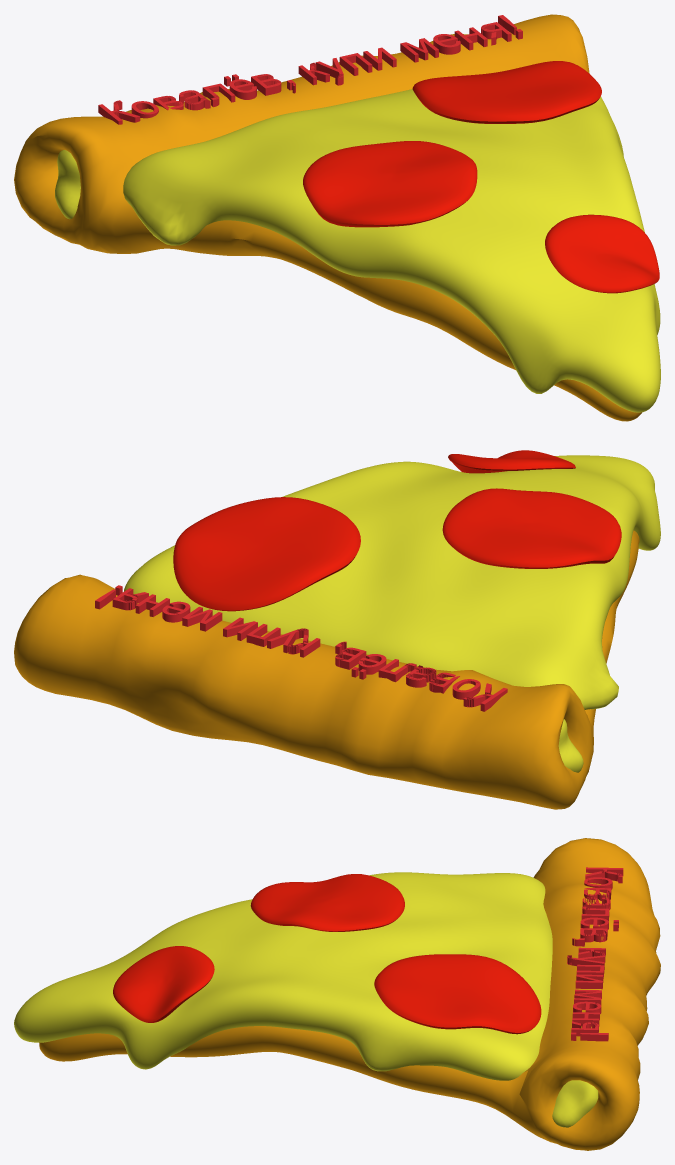
File: pizza.glb
The picture shows the model from 3 angles, top to bottom: view 1: azimuth 30°, elevation 25°; view 2: azimuth 150°, elevation 25°; view 3: azimuth 270°, elevation 25°; orthographic projection. The views are drawn at different scales.
Parts seen in each view (by area): view 1: CHEESE_2, BREAD, PEPPERONI_2, PEPPERONI, Текст, PEPPERONI_3, CHEESE; view 2: BREAD, CHEESE_2, PEPPERONI, PEPPERONI_2, Текст, PEPPERONI_3, CHEESE; view 3: CHEESE_2, BREAD, PEPPERONI, PEPPERONI_2, PEPPERONI_3, Текст, CHEESE.
Part boxes in pixels (x1,y1,x2,y2): CHEESE_2: (123,89,660,412); BREAD: (14,14,641,421); PEPPERONI_2: (303,141,477,227); PEPPERONI: (412,61,601,123); Текст: (98,15,522,124); PEPPERONI_3: (545,214,659,293); CHEESE: (55,150,80,219); BREAD: (14,530,639,809); CHEESE_2: (124,455,660,709); PEPPERONI: (173,497,360,611); PEPPERONI_2: (442,488,621,568); Текст: (95,585,507,711); PEPPERONI_3: (448,450,575,473); CHEESE: (558,719,583,772); CHEESE_2: (14,872,552,1080); BREAD: (39,838,660,1150); PEPPERONI: (374,954,541,1034); PEPPERONI_2: (250,874,404,931); PEPPERONI_3: (113,946,214,1022); Текст: (567,867,623,1041); CHEESE: (552,1080,598,1127).
Size of the model in its own units: 106 by 28.22 by 124.
